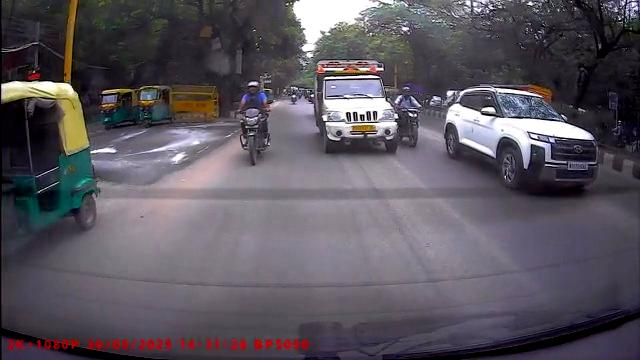motorcycle_with_helmet: (236, 80, 273, 167), (394, 83, 424, 148)
